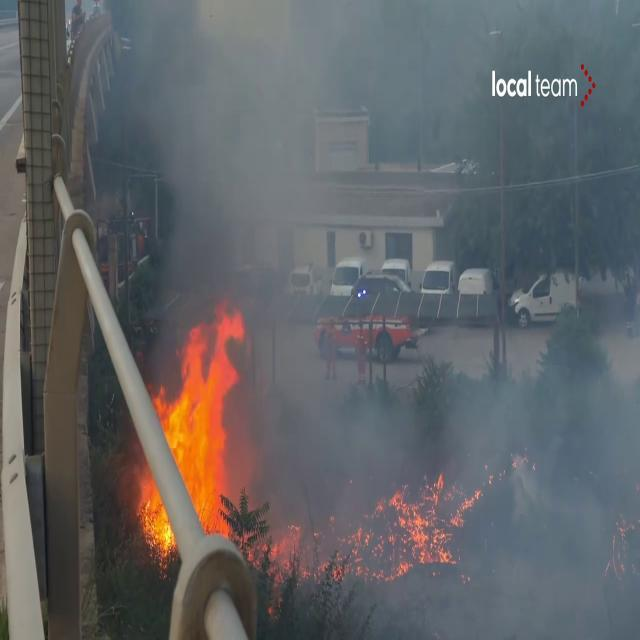Fire: (149, 304, 249, 542), (382, 469, 478, 571)
Smoke: (109, 0, 356, 363), (220, 134, 418, 572), (434, 292, 640, 633)
